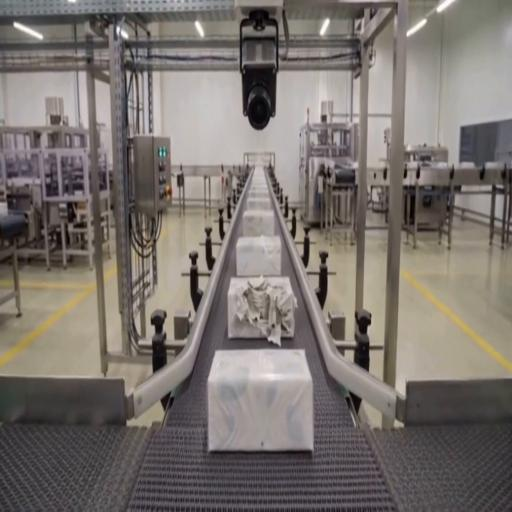defective: (226, 276, 296, 341)
good: (208, 349, 312, 454), (235, 234, 281, 278), (242, 208, 277, 240), (244, 196, 274, 217), (245, 180, 273, 202)
